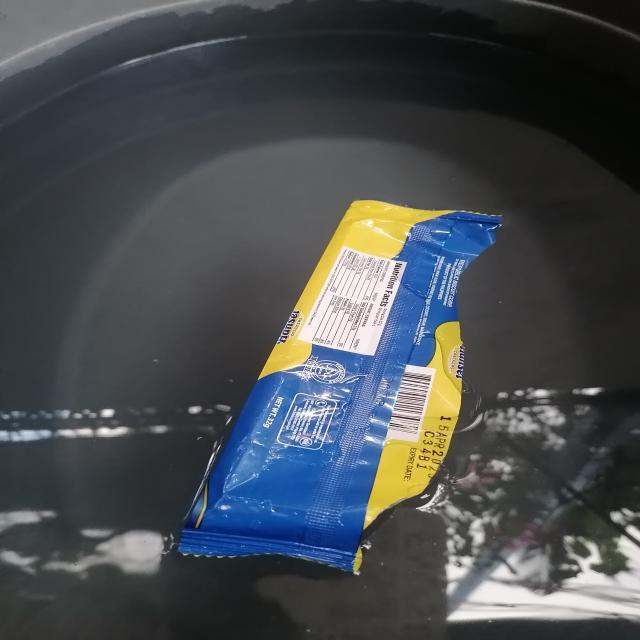Plastic Wrapper: (143, 184, 533, 592)
